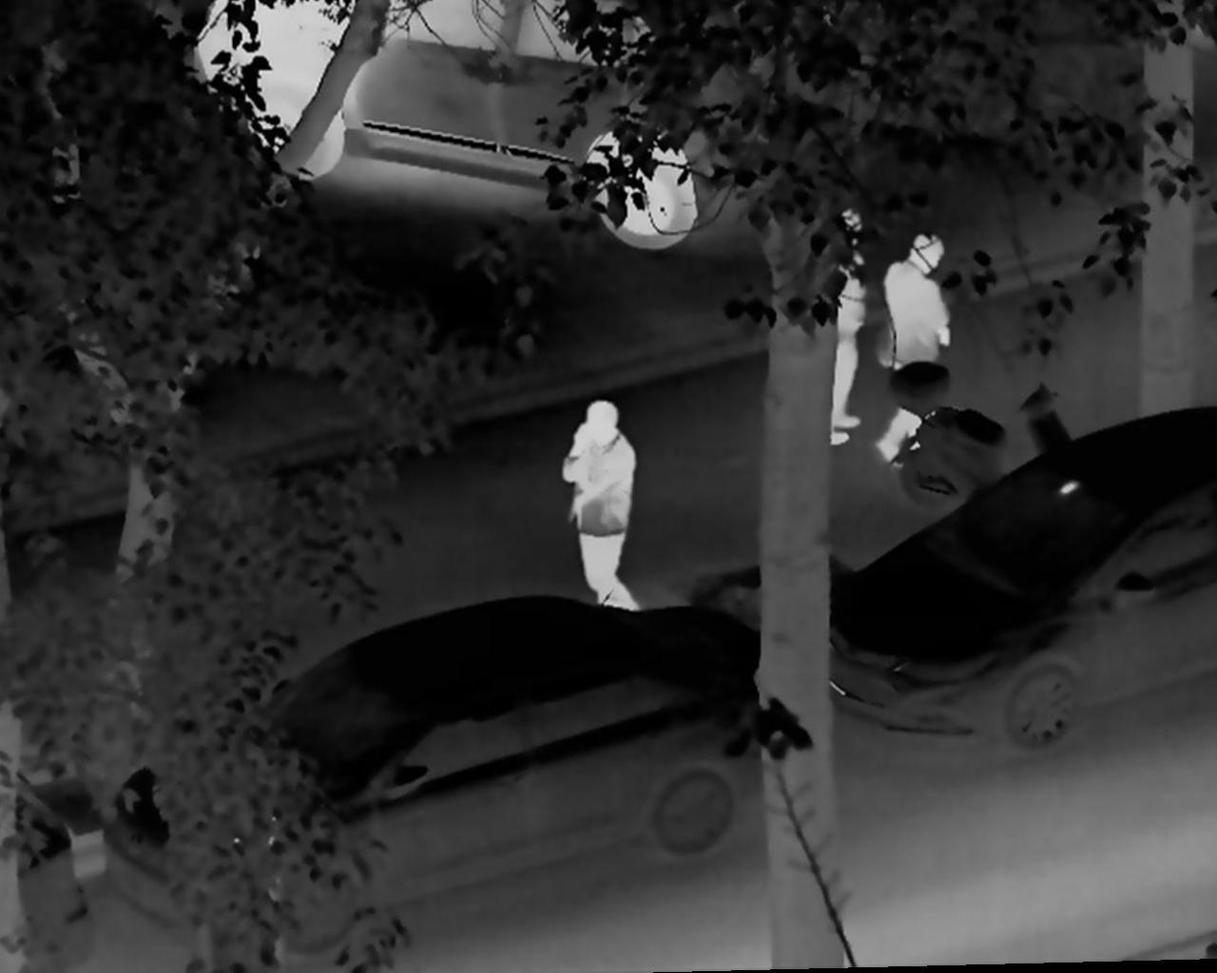person: (870, 225, 951, 468), (561, 392, 643, 615), (830, 206, 872, 449)
